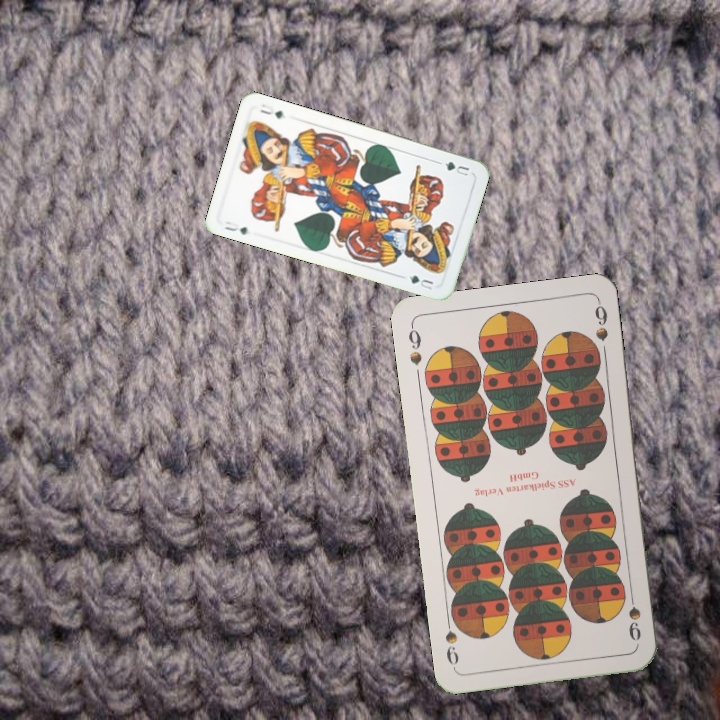GU: (441, 157, 472, 179), (220, 217, 250, 237)
S9: (624, 586, 644, 643), (404, 321, 425, 368)
